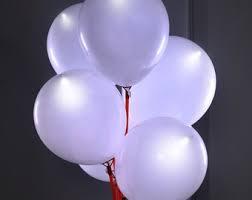Balloon: (32, 68, 126, 163), (116, 116, 209, 200), (75, 1, 169, 83)
